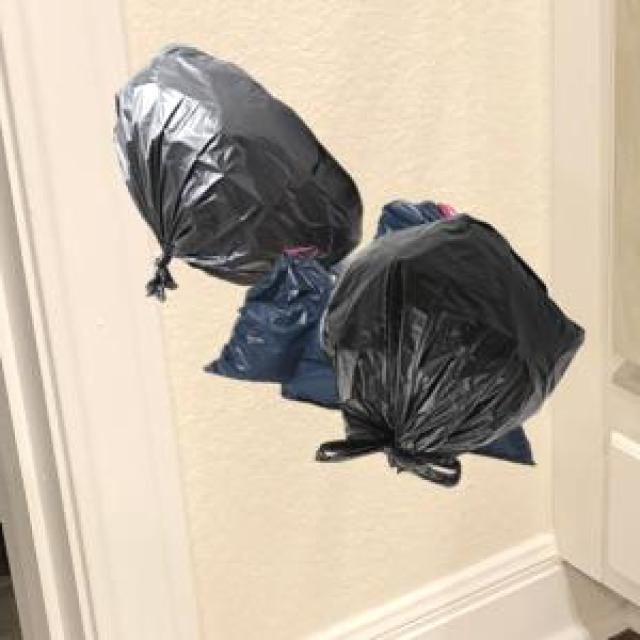Trashbag: (320, 217, 584, 466), (116, 39, 365, 274), (197, 246, 349, 403)
